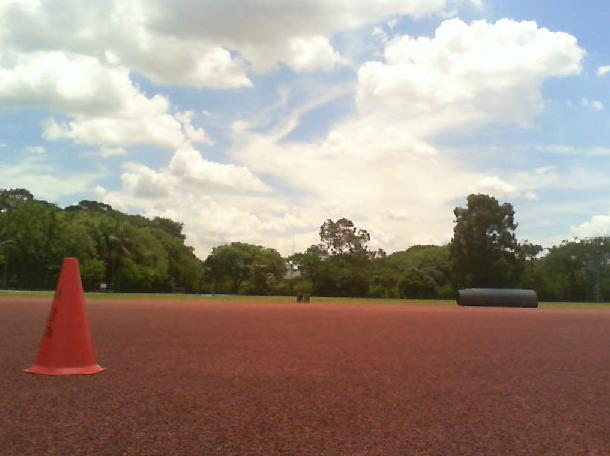0 cone: (22, 258, 107, 376)
